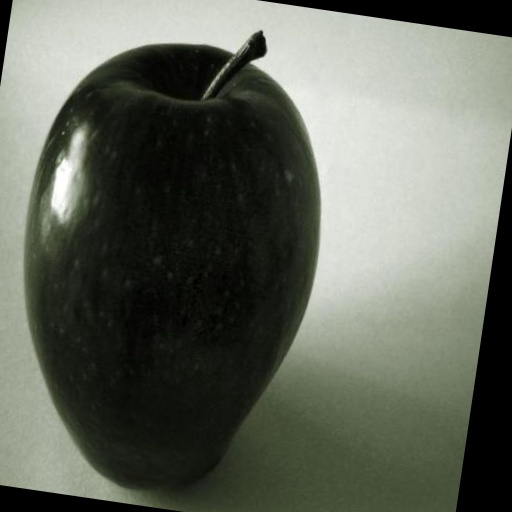fruit: (24, 33, 319, 487)
